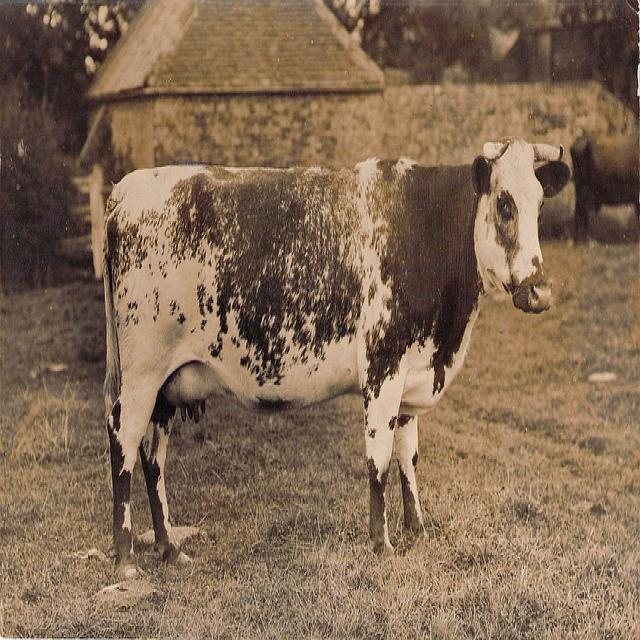cow: (96, 130, 573, 580)
